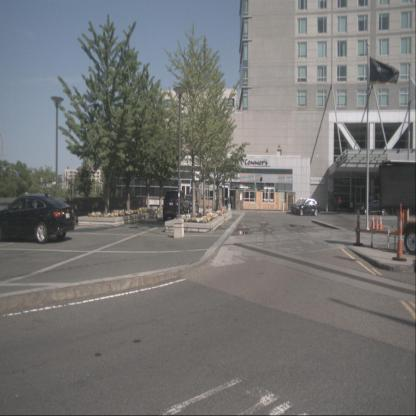human-pedestrian-adult: (338, 197, 341, 214)
movable_object-trafficcone: (392, 203, 407, 262), (353, 206, 364, 248), (220, 201, 224, 216), (375, 215, 379, 230), (379, 215, 383, 230), (371, 215, 375, 229)
vehicle-car: (0, 193, 76, 245), (163, 191, 190, 222), (360, 199, 390, 216), (295, 199, 321, 217), (291, 199, 317, 214), (184, 195, 199, 215)
